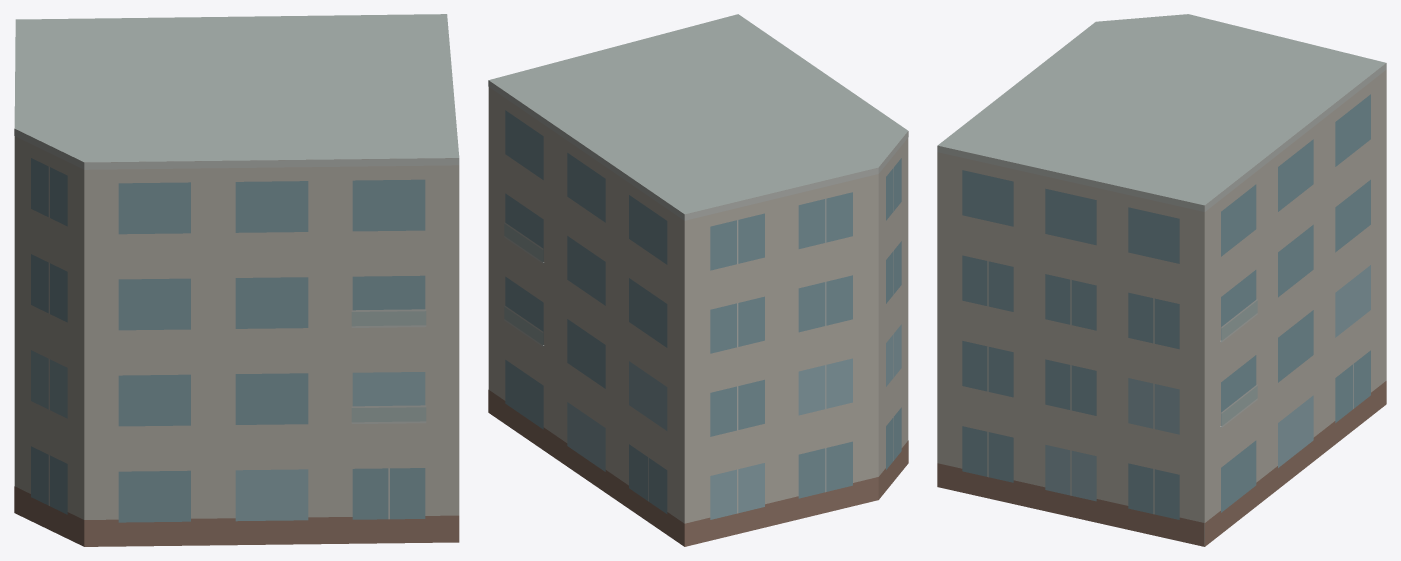
The model's file is survey-upis-32526411.glb.
3 views of the same model, side by side, from view 1: azimuth 30°, elevation 25°; view 2: azimuth 150°, elevation 25°; view 3: azimuth 270°, elevation 25° (orthographic). The views are drawn at different scales.
Visible parts, largest first — view 1: survey-upis-32526411.tmp; view 2: survey-upis-32526411.tmp; view 3: survey-upis-32526411.tmp.
Boxes of the visible parts, x1,y1,x2,y2 form: survey-upis-32526411.tmp: (14,14,459,546); survey-upis-32526411.tmp: (488,14,908,546); survey-upis-32526411.tmp: (937,14,1386,546).
Bounding box in the file's own units: 15.16 × 12.6 × 15.03.
